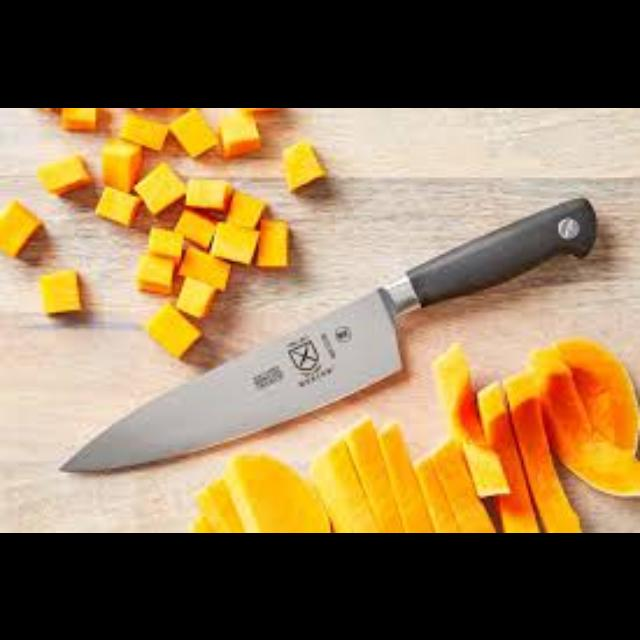Knife: (59, 193, 596, 472)
